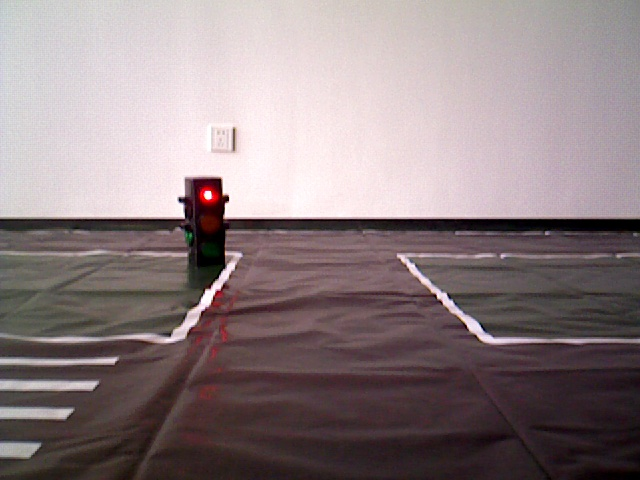red: (185, 176, 223, 270)
